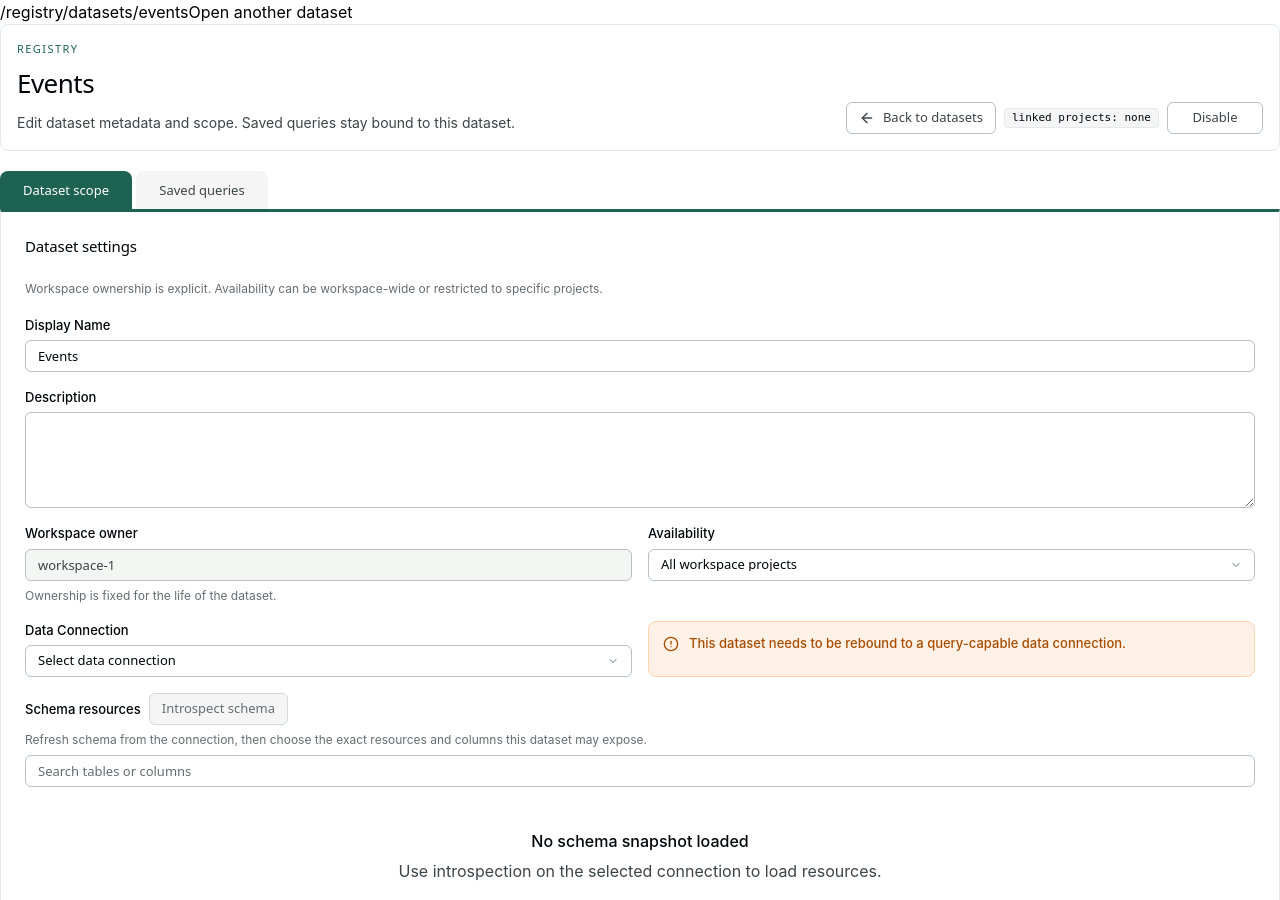
Test: RegistryDatasetsDetailPage saved queries › does not allow previewing a disabled saved query
The image size is (1280, 900).
Click the tab "Saved queries" at (202, 190), box [136, 171, 268, 209]
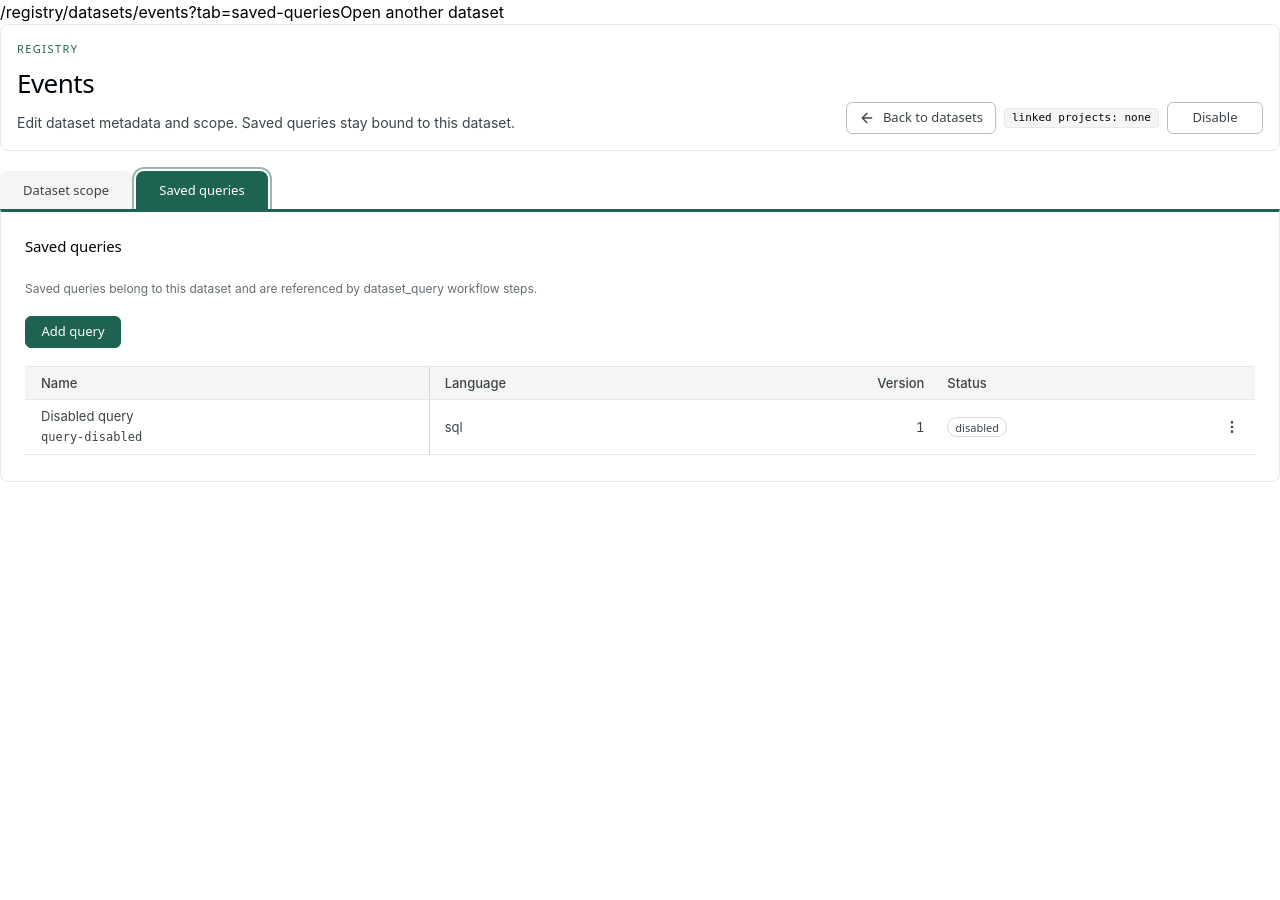
Click the button named "Actions for Disabled query" at (1232, 427), box [1216, 411, 1248, 443]
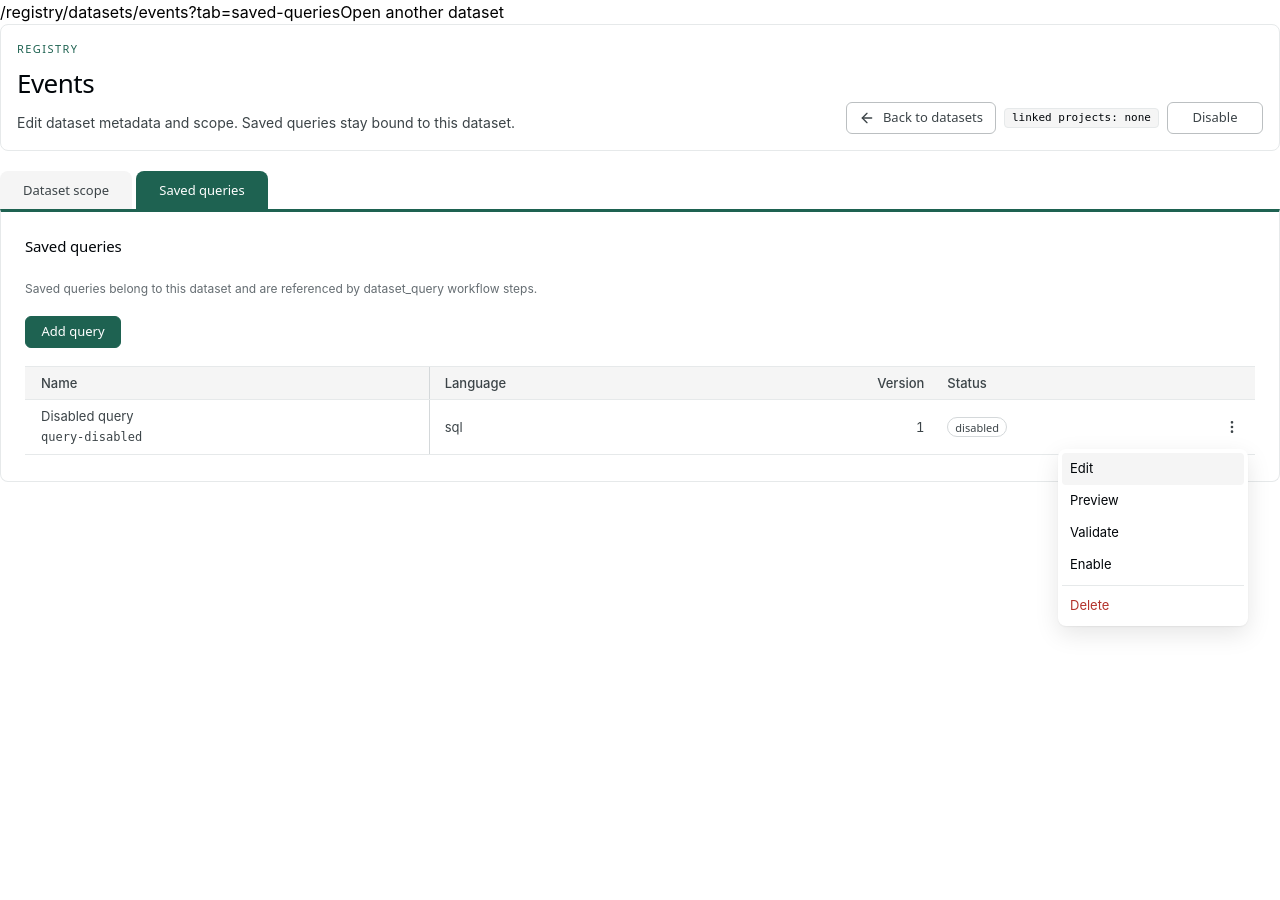
Expected: the menu item "Preview" is disabled, [1062, 485, 1244, 517]
Expected: the menu item "Validate" is disabled, [1062, 517, 1244, 549]
